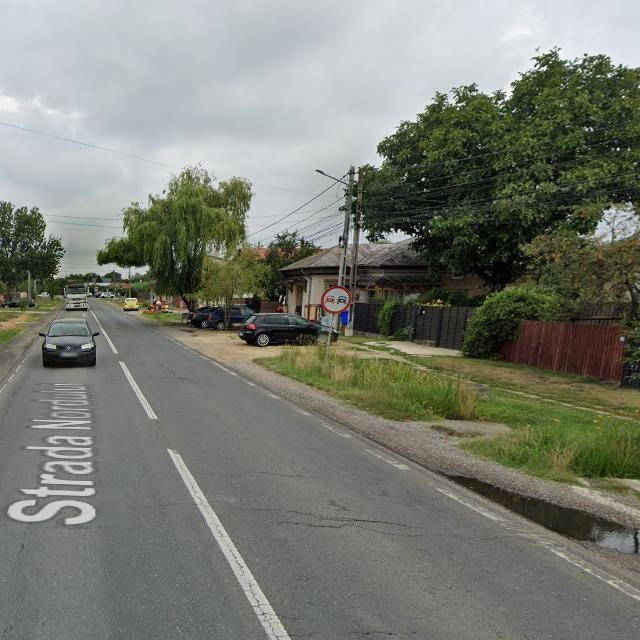forb_overtake: (321, 285, 351, 314)
